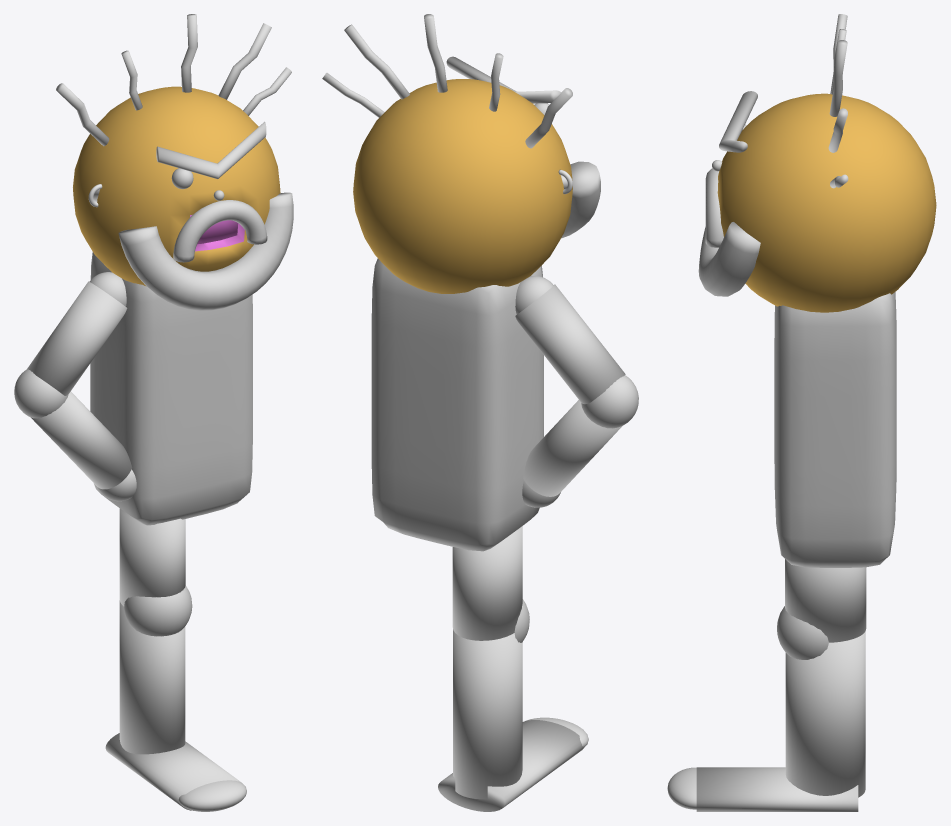
File: BobBobinson.fbx
The picture shows the model from 3 angles, left to right: view 1: azimuth 30°, elevation 25°; view 2: azimuth 150°, elevation 25°; view 3: azimuth 270°, elevation 25°; orthographic projection. The views are drawn at different scales.
Visible parts, largest first — view 1: Cube.001, Sphere, Torus.002, Cylinder.009, Cylinder.006, Cylinder.008, Cylinder.007, Cylinder.010, Torus, Sphere.006, Cylinder.001, Sphere.004 (+8 smaller); view 2: Cube.001, Sphere, Cylinder.009, Cylinder.008, Cylinder.006, Cylinder.007, Cylinder.010, Sphere.004, Torus.002, Cylinder.001, Cylinder.004, Cylinder.002 (+3 smaller); view 3: Sphere, Cube.001, Cylinder.009, Cylinder.010, Cylinder.008, Torus.002, Sphere.006, Torus, Cylinder.001, Sphere.007, Cylinder.002.
Boxes of the visible parts, bbox=[...] form: Cube.001: bbox=[90, 252, 252, 525]; Sphere: bbox=[73, 86, 280, 286]; Torus.002: bbox=[118, 192, 293, 310]; Cylinder.009: bbox=[119, 600, 185, 754]; Cylinder.006: bbox=[27, 281, 127, 395]; Cylinder.008: bbox=[119, 508, 185, 606]; Cylinder.007: bbox=[31, 391, 132, 489]; Cylinder.010: bbox=[105, 733, 241, 810]; Torus: bbox=[173, 200, 267, 262]; Sphere.006: bbox=[124, 586, 192, 636]; Cylinder.001: bbox=[156, 121, 266, 179]; Sphere.004: bbox=[14, 369, 68, 418]; Cube.001: bbox=[371, 258, 543, 551]; Sphere: bbox=[353, 79, 572, 293]; Cylinder.009: bbox=[453, 629, 522, 799]; Cylinder.008: bbox=[452, 526, 522, 640]; Cylinder.006: bbox=[515, 284, 625, 404]; Cylinder.007: bbox=[523, 400, 622, 496]; Cylinder.010: bbox=[438, 720, 584, 811]; Sphere.004: bbox=[581, 375, 638, 428]; Torus.002: bbox=[561, 161, 600, 238]; Cylinder.001: bbox=[446, 56, 560, 103]; Cylinder.004: bbox=[344, 24, 409, 99]; Cylinder.002: bbox=[424, 14, 447, 92]; Sphere: bbox=[717, 93, 936, 312]; Cube.001: bbox=[774, 292, 896, 567]; Cylinder.009: bbox=[785, 631, 865, 797]; Cylinder.010: bbox=[696, 767, 858, 811]; Cylinder.008: bbox=[785, 559, 866, 642]; Torus.002: bbox=[698, 222, 760, 296]; Sphere.006: bbox=[777, 606, 828, 659]; Torus: bbox=[705, 168, 723, 247]; Cylinder.001: bbox=[719, 91, 757, 152]; Sphere.007: bbox=[667, 767, 696, 809]; Cylinder.002: bbox=[829, 40, 847, 116].
Bounding box in the file's own units: 315 × 777 × 240.
